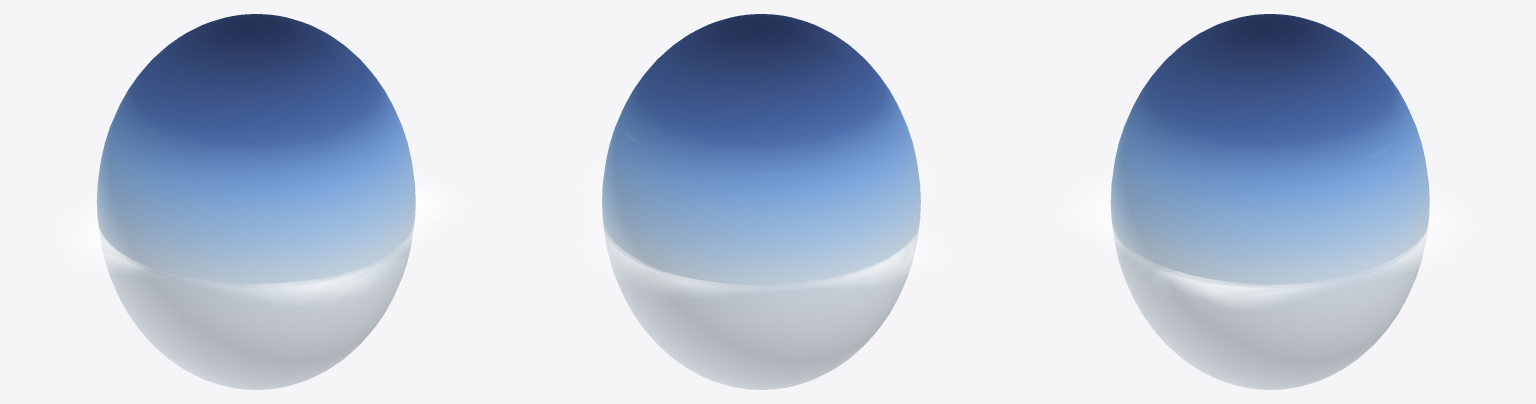
The model's file is cloud-ascent.glb.
The picture shows the model from 3 angles, left to right: view 1: azimuth 30°, elevation 25°; view 2: azimuth 150°, elevation 25°; view 3: azimuth 270°, elevation 25°; orthographic projection.
Visible parts, largest first — view 1: SkyDome, St_layer_3, St_layer_2, St_layer_floor2, St_layer_1; view 2: SkyDome, St_layer_2, St_layer_1, St_layer_3, St_layer_floor2; view 3: SkyDome, St_layer_floor2, St_layer_3, St_layer_2, St_layer_1.
Boxes of the visible parts, left/top/right/bottom form: SkyDome: left=96, top=14, right=415, bottom=389; St_layer_3: left=81, top=192, right=445, bottom=295; St_layer_2: left=83, top=227, right=371, bottom=287; St_layer_floor2: left=299, top=188, right=443, bottom=293; St_layer_1: left=76, top=189, right=423, bottom=291; SkyDome: left=602, top=14, right=920, bottom=389; St_layer_2: left=597, top=187, right=935, bottom=291; St_layer_1: left=632, top=256, right=901, bottom=281; St_layer_3: left=596, top=225, right=887, bottom=279; St_layer_floor2: left=610, top=247, right=649, bottom=271; SkyDome: left=1110, top=14, right=1429, bottom=389; St_layer_floor2: left=1082, top=206, right=1435, bottom=303; St_layer_3: left=1088, top=181, right=1432, bottom=292; St_layer_2: left=1084, top=193, right=1450, bottom=292; St_layer_1: left=1096, top=205, right=1450, bottom=294.
Size of the model in its own units: 908 by 680 by 886.
Materials: 10 (7 with a texture image).
